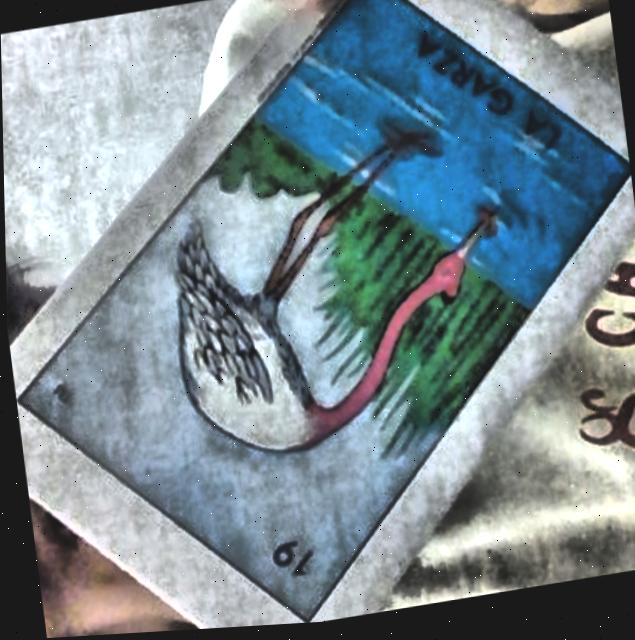La Garza: (15, 0, 629, 625)
